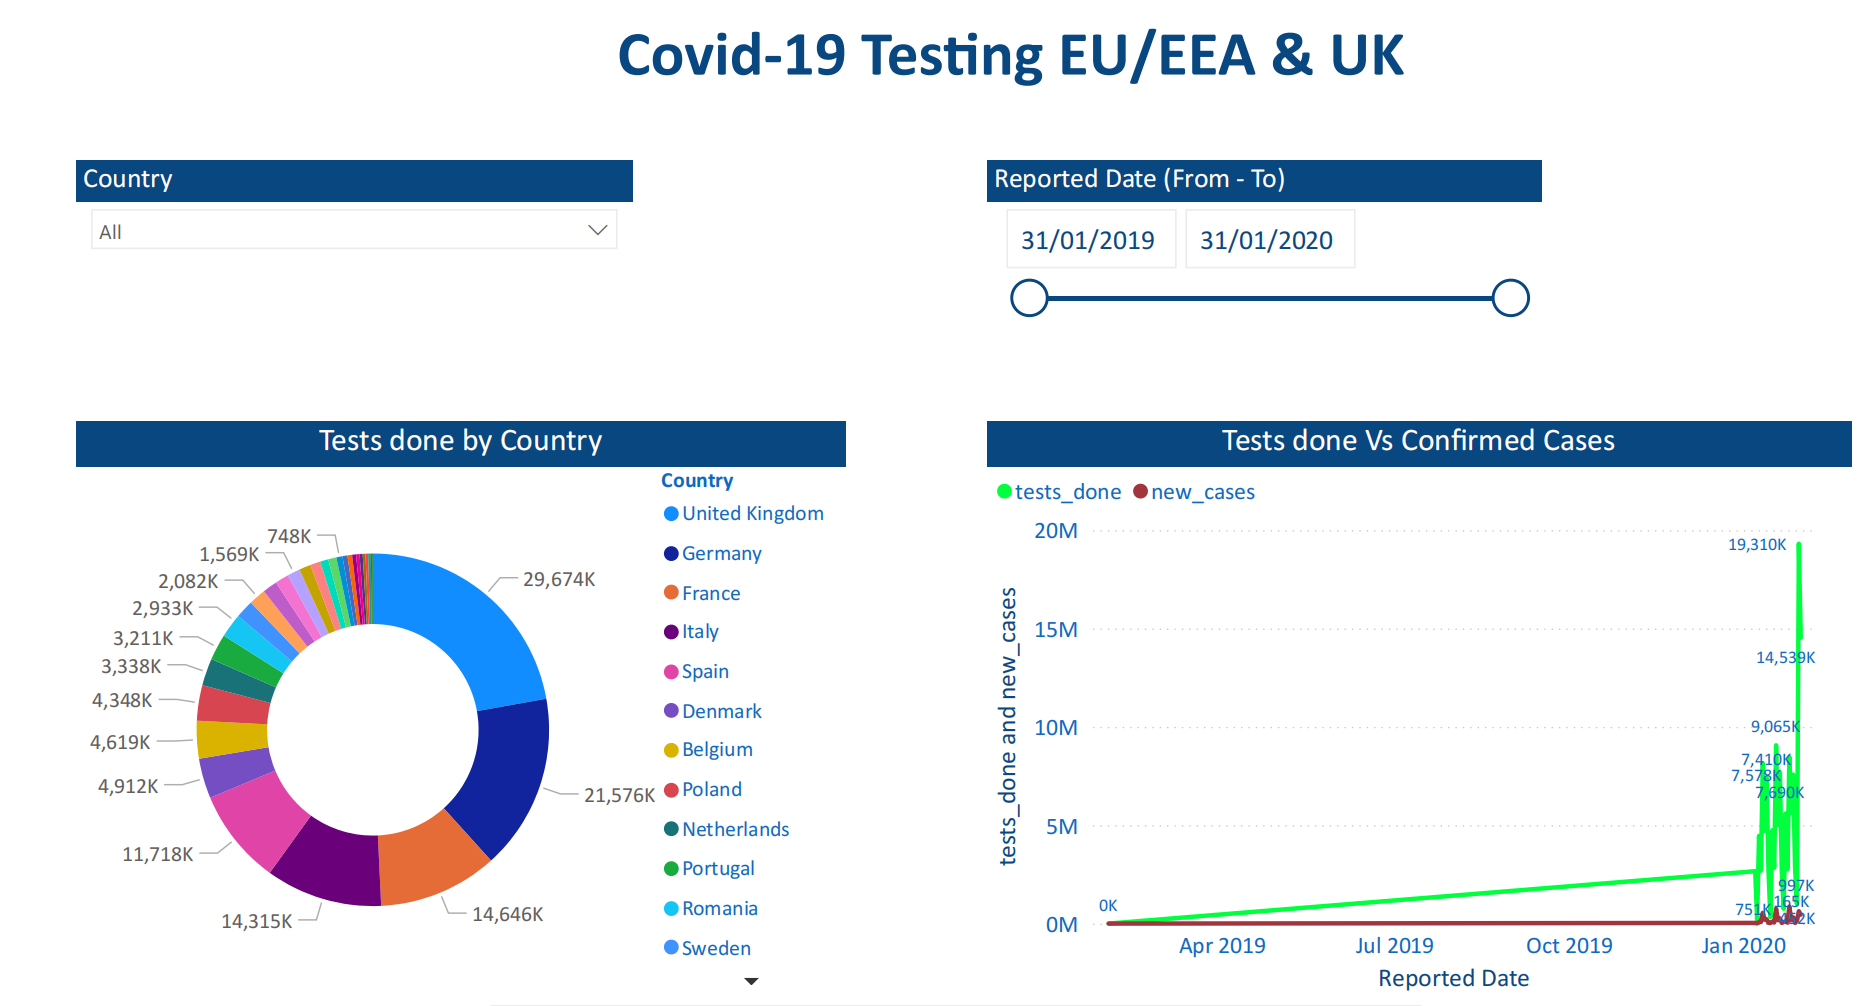

The page's visual inventory and layout, read from the dashboard file:
{"tool":"powerbi","page":{"name":"Testing","canvas":[1280,720],"ordinal":2},"visuals":[{"type":"donutChart","title":"Tests done by Country","fields":{"Category":["covid_reporting testing.country"],"Y":["Sum(covid_reporting testing.tests_done)"]},"box":[56,280,520,392],"z":0},{"type":"lineChart","title":"Tests done Vs Confirmed Cases","fields":{"Category":["covid_reporting testing.week_end_date"],"Y":["Sum(covid_reporting testing.tests_done)","Sum(covid_reporting testing.new_cases)"]},"box":[672,280,584,392],"z":1000},{"type":"slicer","title":"Reported Date (From - To)","fields":{"Values":["covid_reporting testing.week_end_date"]},"box":[671.7,104.3,375.7,112],"z":2000},{"type":"slicer","title":"Country","fields":{"Values":["covid_reporting testing.country"]},"box":[56,104.3,375.7,119.7],"z":3000},{"type":"textbox","box":[376,0,624,64],"z":4000}]}

Visuals, with their boxes on the page's 1280x720 design canvas (x1, y1, x2, y2). These are canvas units, not pixel positions in the 1872x1006 screenshot, which may show the page scaled, cropped or inside an application window:
"Tests done by Country" donutChart: bbox=[56, 280, 576, 672]
"Tests done Vs Confirmed Cases" lineChart: bbox=[672, 280, 1256, 672]
"Reported Date (From - To)" slicer: bbox=[672, 104, 1047, 216]
"Country" slicer: bbox=[56, 104, 432, 224]
textbox: bbox=[376, 0, 1000, 64]
